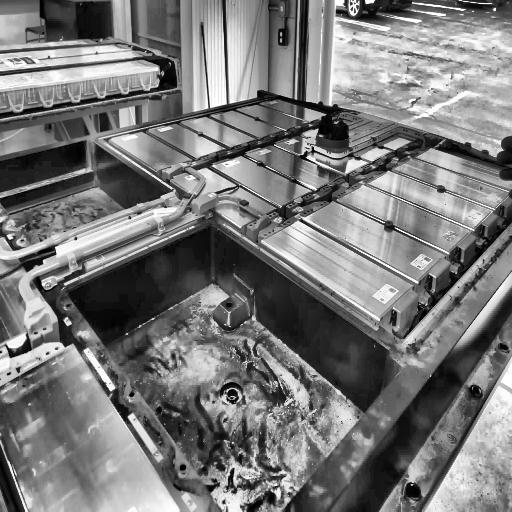battery_module: (263, 220, 414, 320), (304, 203, 446, 282), (339, 184, 472, 253), (372, 169, 495, 230), (394, 157, 511, 210), (211, 156, 312, 207), (245, 145, 343, 191), (414, 147, 512, 191)
busbar: (0, 106, 444, 384)
connector: (312, 113, 352, 149)
